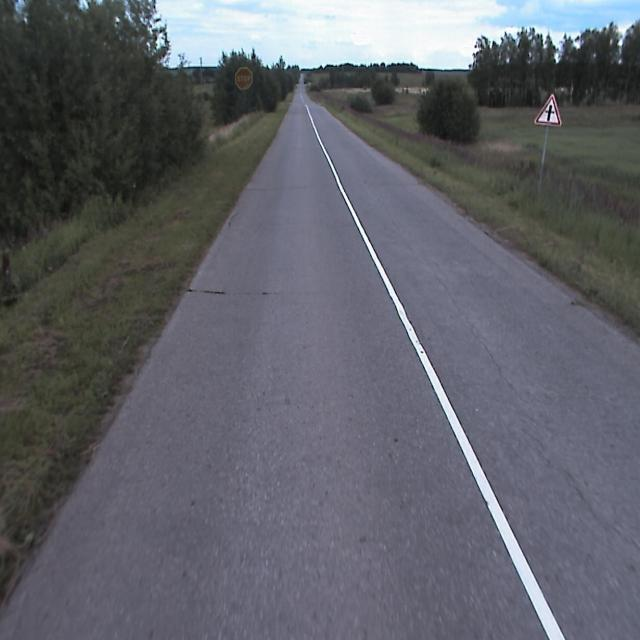road: (0, 103, 639, 639)
